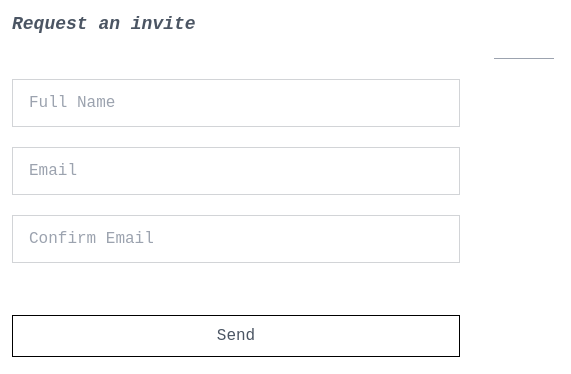
Test: SignupForm › should require all values to be non-empty on submit
Click the button.
click(236, 336)  # box [12,315,460,357]
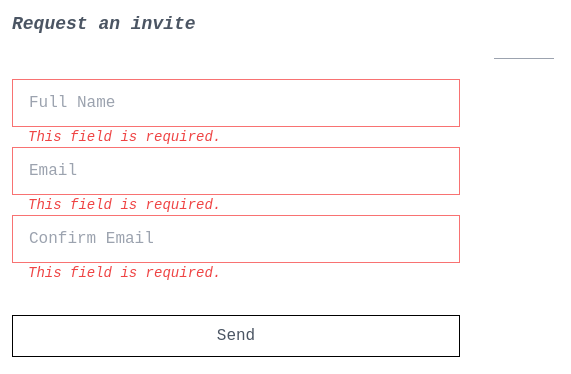
Check: the element with test id "fullName-input" reads "This field is required.", box [28,129,221,145]
Check: the element with test id "email-input" reads "This field is required.", box [28,197,221,213]
Check: the element with test id "confirmEmail-input" reads "This field is required.", box [28,265,221,281]
